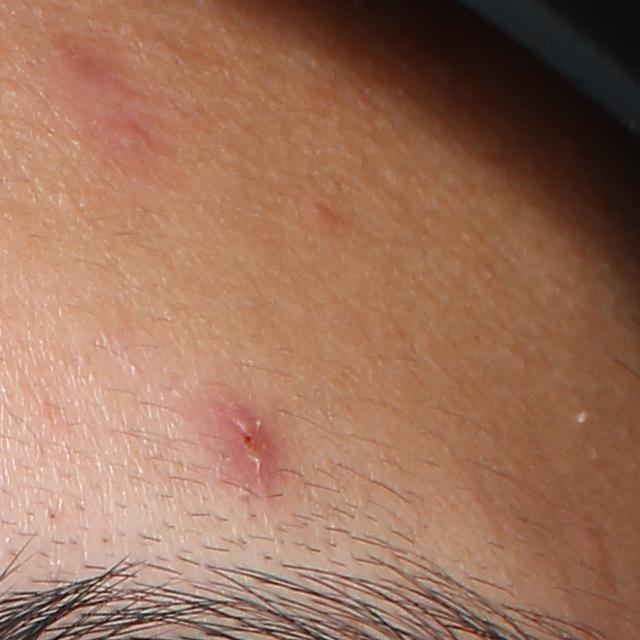papule: (203, 401, 275, 485)
